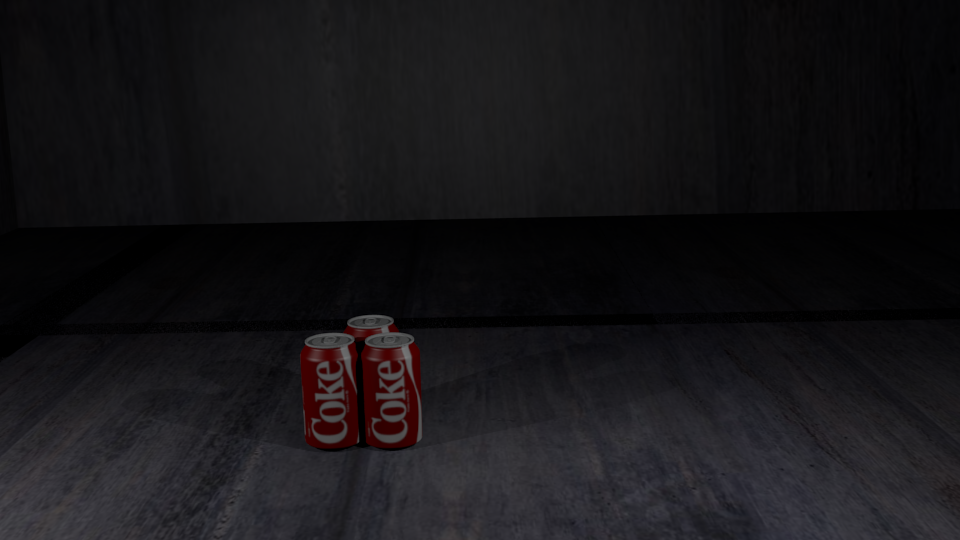cola_can: (300, 333, 361, 445), (360, 333, 421, 444), (343, 315, 398, 421)
